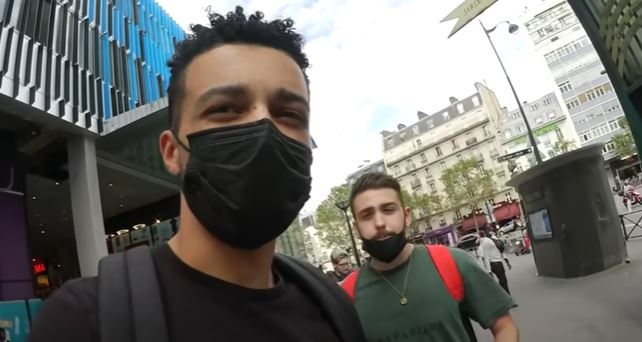with_incorrect_mask: (353, 203, 406, 251)
with_mask: (188, 80, 310, 215)
